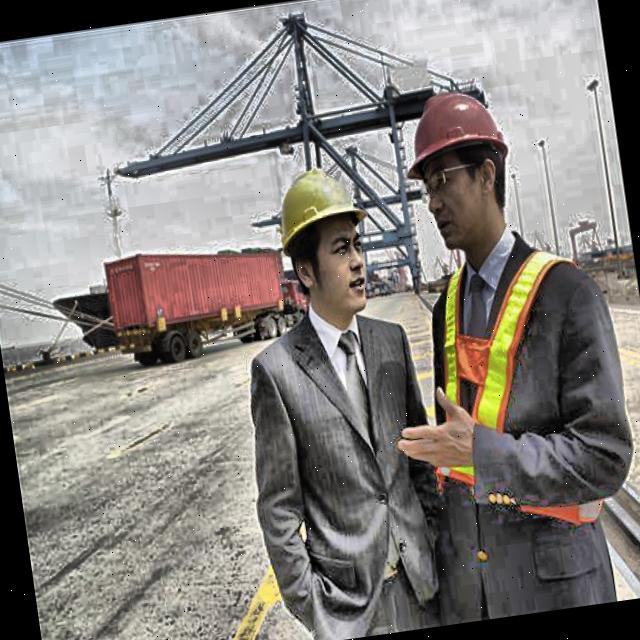helmet: (383, 58, 538, 267), (253, 140, 398, 338)
